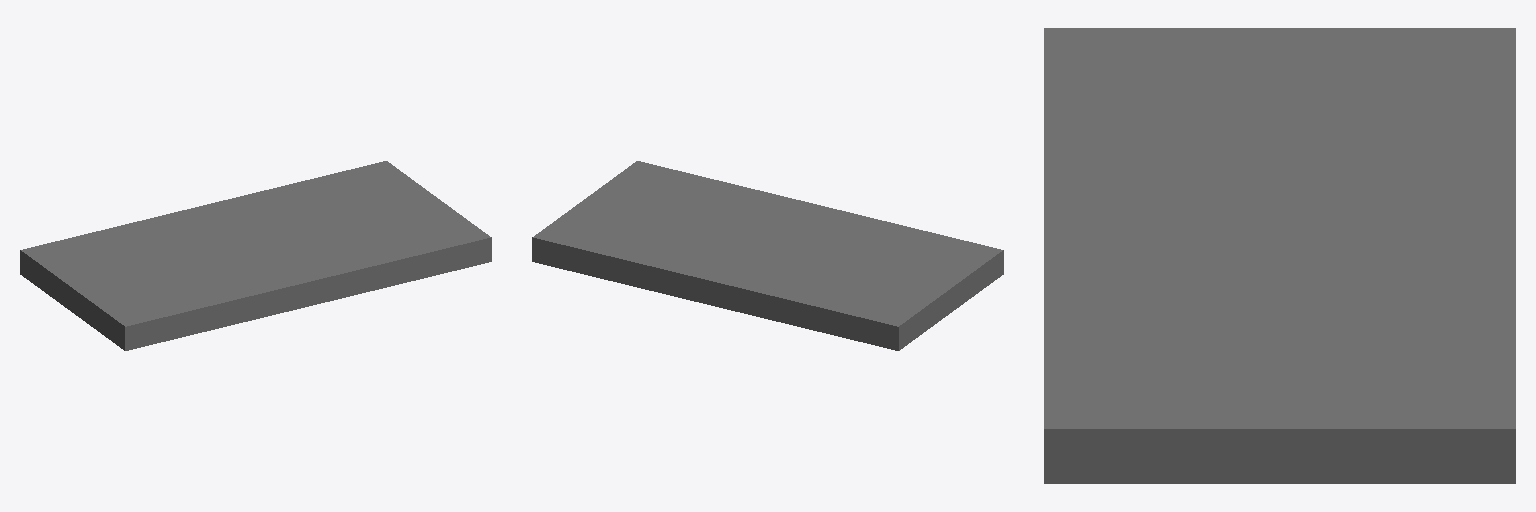
The robot description file, URDF, robot "box.urdf":
<?xml version="1.0" ?>
<robot name="box.urdf">
  <link name="baseLink">
    <contact>
      <lateral_friction value="1.0"/>
      <rolling_friction value="0.0001"/>
      <inertia_scaling value="3.0"/>
    </contact>
    <inertial>
      <origin rpy="0 0 0" xyz="0 0 0"/>
       <mass value="0.1"/>
       <inertia ixx="1" ixy="0" ixz="0" iyy="1" iyz="0" izz="1"/>
    </inertial>
    <visual>
      <origin rpy="0 0 0" xyz="0 0 0"/>
      <geometry>
        <!-- <box size="1.25 0.62 0.08"/> -->
        <mesh filename="box/box.obj" scale="1.25 0.62 0.08"/>
      </geometry>
      <material name="white">
        <color rgba="0.5 0.5 0.5 1"/>
      </material>
    </visual>
    <collision>
      <origin rpy="0 0 0" xyz="0 0 0"/>
      <geometry>
        <mesh filename="box/box.obj" scale="1.25 0.62 0.08"/>
	 	    <!-- <box size="1.25 0.62 0.08"/> -->
      </geometry>
    </collision>
  </link>
</robot>

--- Render facts (derived) ---
The picture shows the robot from 3 angles, left to right: view 1: azimuth 30°, elevation 25°; view 2: azimuth 150°, elevation 25°; view 3: azimuth 270°, elevation 25°; orthographic projection.
Robot: box.urdf — 1 links, 0 joints (none); root link baseLink; default pose: all joints at 0.
Visible links, largest first — view 1: baseLink; view 2: baseLink; view 3: baseLink.
Boxes of the visible links, bbox=[...] form: baseLink: bbox=[20, 161, 491, 350]; baseLink: bbox=[532, 161, 1003, 350]; baseLink: bbox=[1044, 28, 1515, 483].
Size in the robot's own frame: 1.25 by 0.62 by 0.08 metres.
1 mesh visuals loaded from 1 distinct referenced files (1 OBJ).
